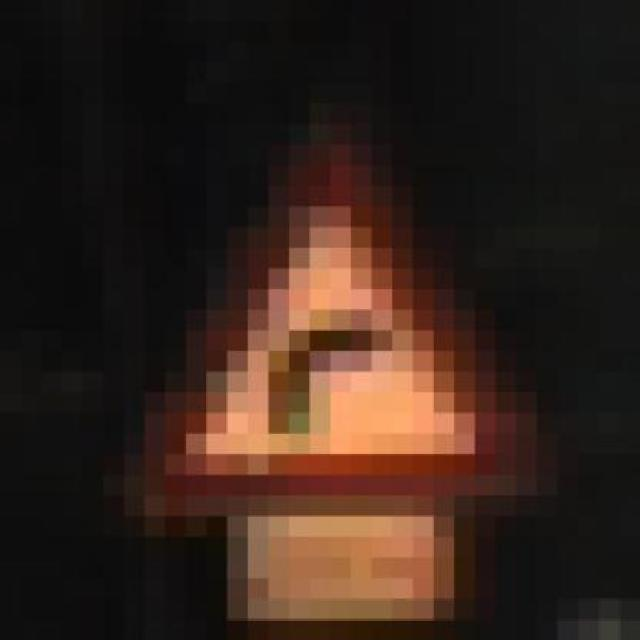Dangerous Rright Curve Ahead: (103, 124, 537, 516)
